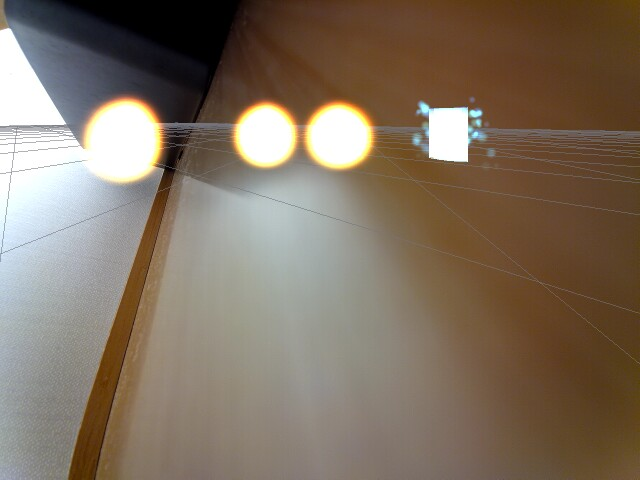firebig: (73, 82, 166, 200)
